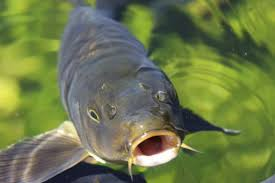carp: (1, 6, 241, 182)
